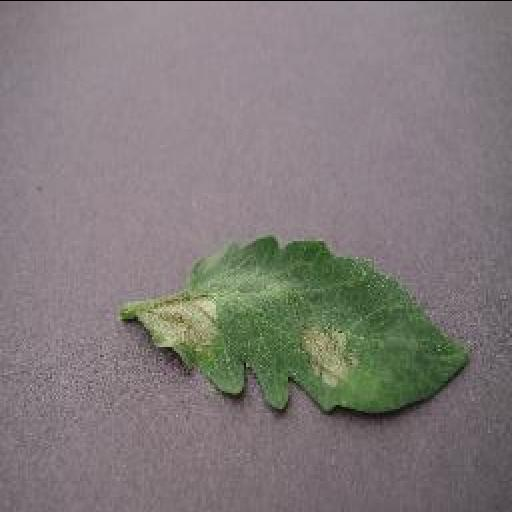disease_tomato: (136, 231, 474, 409)
